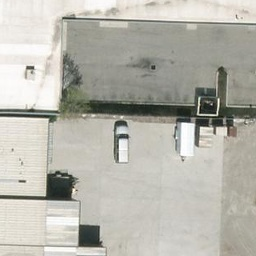car: (110, 123, 131, 169)
